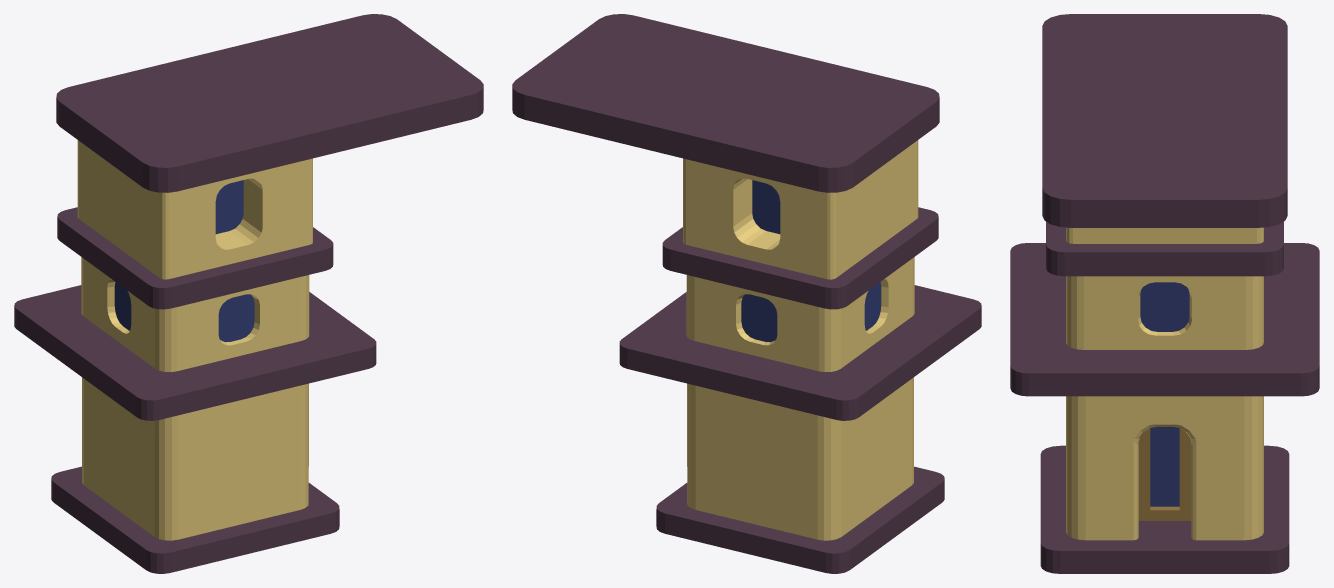
File: TMMBuilding.fbx
3 views of the same model, side by side, from view 1: azimuth 30°, elevation 25°; view 2: azimuth 150°, elevation 25°; view 3: azimuth 270°, elevation 25° (orthographic). The views are drawn at different scales.
Visible parts, largest first — view 1: TMMBuilding; view 2: TMMBuilding; view 3: TMMBuilding.
Part boxes in pixels (box(x1,y1,x2,y2)): TMMBuilding: box(14, 14, 483, 573); TMMBuilding: box(512, 14, 981, 573); TMMBuilding: box(1010, 14, 1319, 573).
Size of the model in its own units: 8.02 by 8.54 by 5.25.
